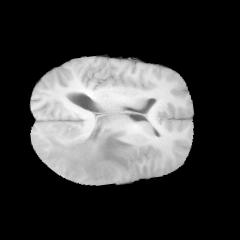glioma: (40, 128, 135, 182)
